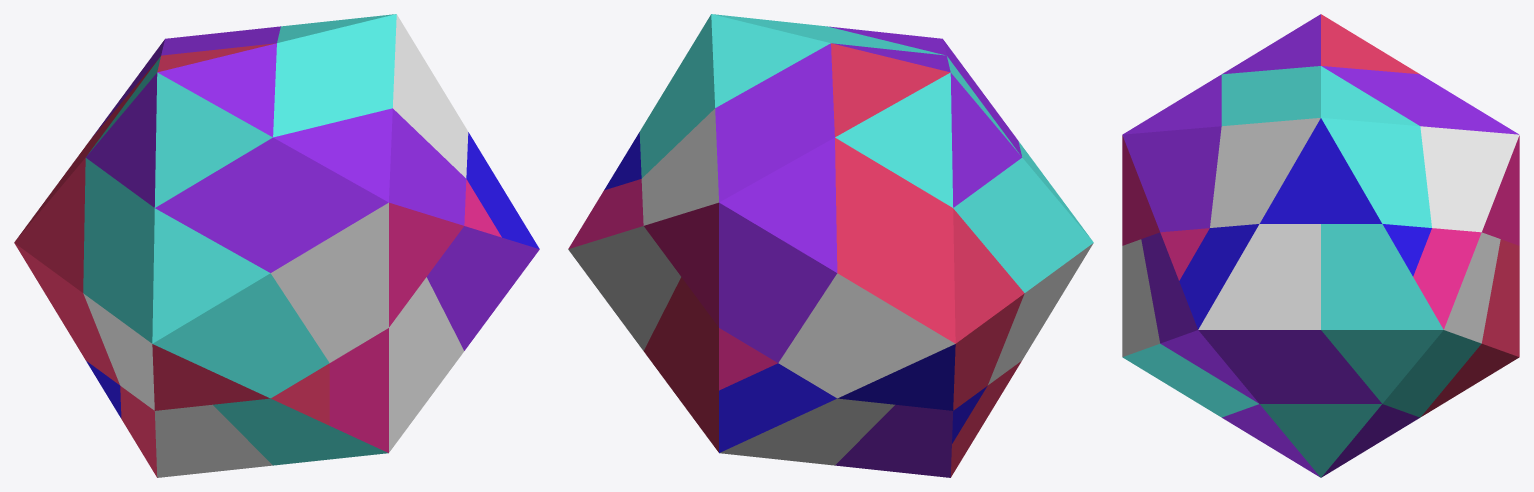
Rendered from icosahedron3.glb.
The picture shows the model from 3 angles, left to right: view 1: azimuth 30°, elevation 25°; view 2: azimuth 150°, elevation 25°; view 3: azimuth 270°, elevation 25°; orthographic projection. The views are drawn at different scales.
Visible parts, largest first — view 1: Solid2, Solid1, Solid6, Solid3, Solid4, Solid5; view 2: Solid1, Solid3, Solid6, Solid2, Solid5, Solid4; view 3: Solid2, Solid1, Solid6, Solid5, Solid4, Solid3.
Boxes of the visible parts, box(x1,y1,x2,y2) form: Solid2: box(83, 14, 396, 465); Solid1: box(86, 26, 539, 350); Solid6: box(83, 14, 468, 477); Solid3: box(14, 43, 329, 477); Solid4: box(329, 179, 501, 452); Solid5: box(86, 132, 539, 418); Solid1: box(715, 26, 1022, 477); Solid3: box(643, 43, 1024, 477); Solid6: box(568, 108, 1093, 465); Solid2: box(639, 14, 1093, 292); Solid5: box(604, 132, 987, 452); Solid4: box(568, 179, 777, 390); Solid2: box(1122, 66, 1481, 477); Solid1: box(1122, 14, 1518, 477); Solid6: box(1122, 118, 1519, 356); Solid5: box(1179, 118, 1431, 329); Solid4: box(1122, 135, 1519, 329); Solid3: box(1321, 14, 1519, 417).
Bounding box in the file's own units: 1.7 × 1.7 × 1.7.
